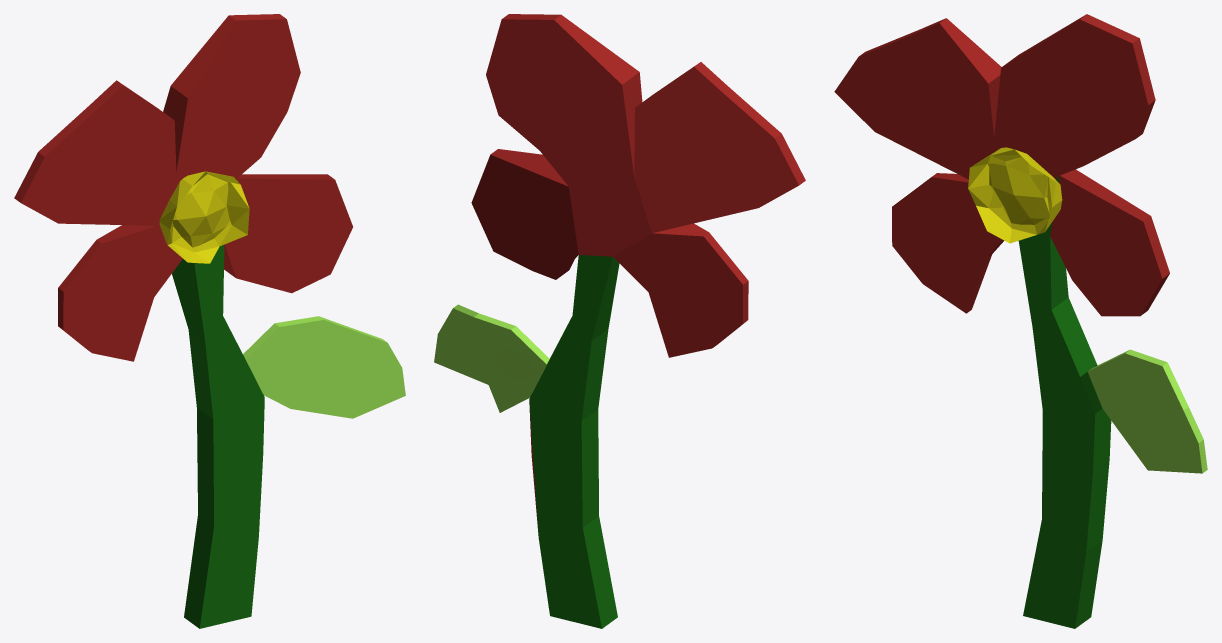
Rendered from Flower.glb.
3 views of the same model, side by side, from view 1: azimuth 30°, elevation 25°; view 2: azimuth 150°, elevation 25°; view 3: azimuth 330°, elevation 25° (orthographic).
Visible parts, largest first — view 1: Flower; view 2: Flower; view 3: Flower.
Boxes of the visible parts, x1,y1,x2,y2 form: Flower: (14, 14, 405, 628); Flower: (434, 14, 805, 628); Flower: (834, 14, 1207, 628).
Size of the model in its own units: 0.0865 by 0.1306 by 0.0149.
